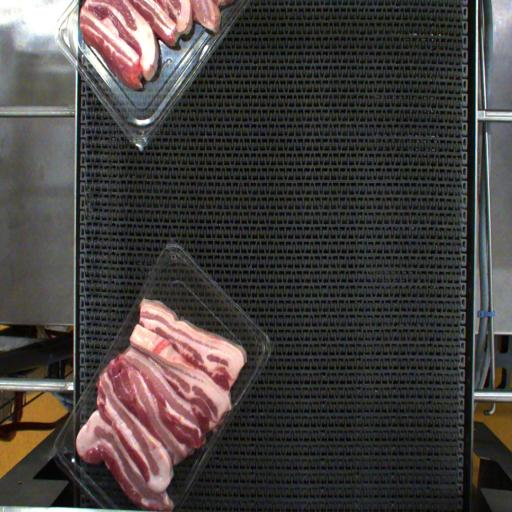packaging-error: (216, 408, 242, 432), (131, 289, 152, 314)
